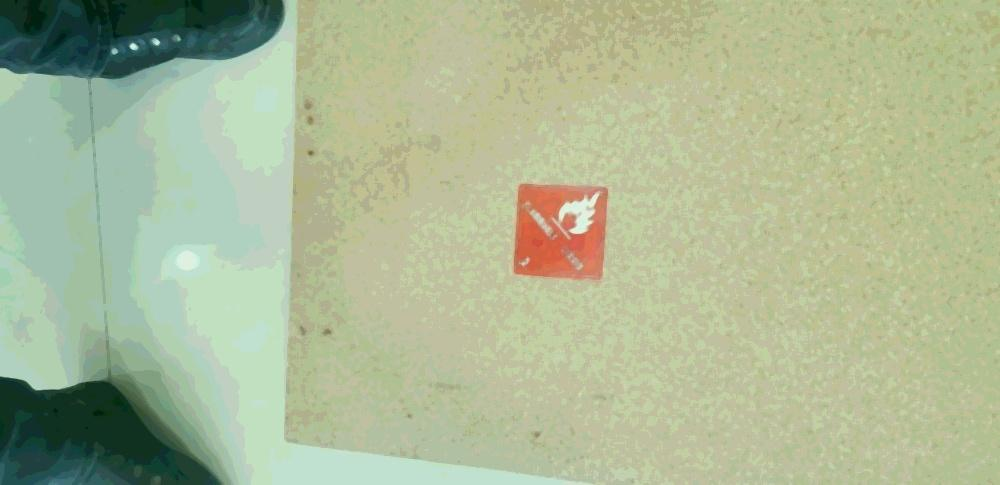flammable: (516, 185, 607, 277)
